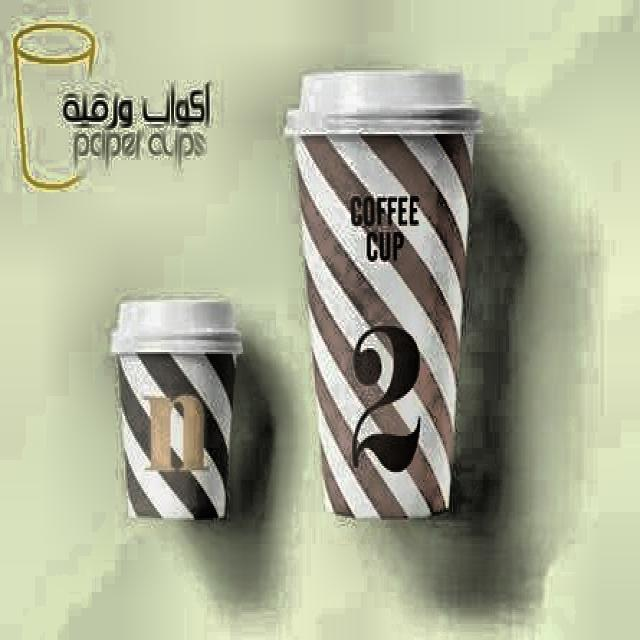Cup: (288, 56, 479, 526), (108, 286, 250, 534)
